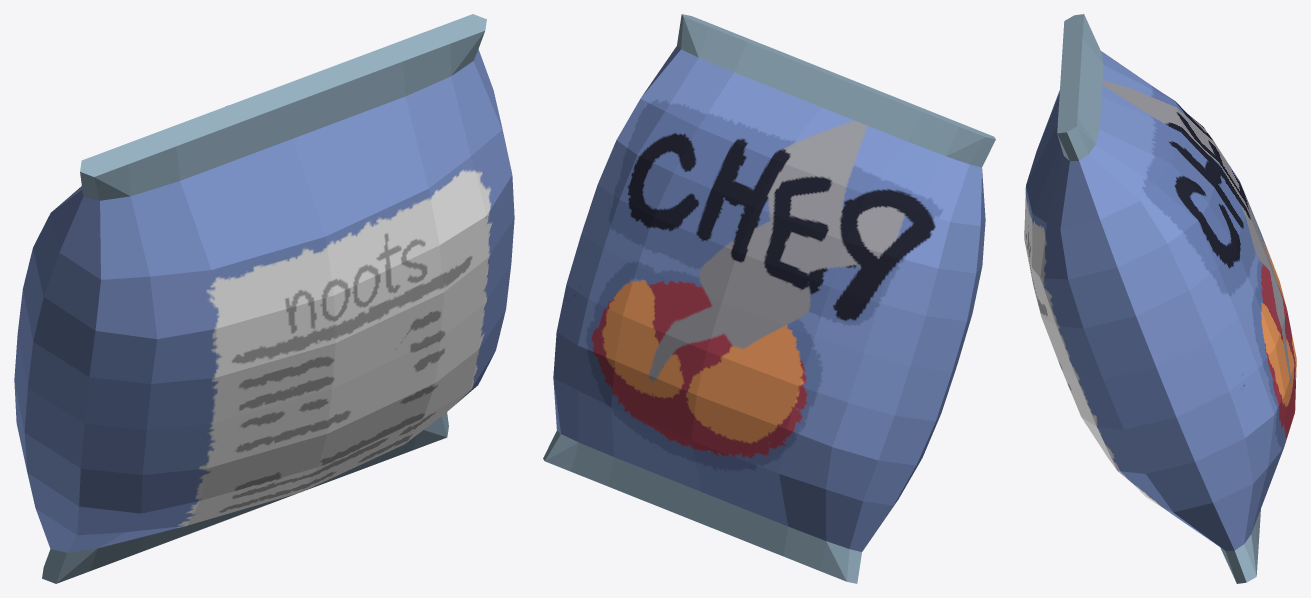
Rendered from BootlegSnack.Chep.fbx.
3 renders of one model, left to right at view 1: azimuth 30°, elevation 25°; view 2: azimuth 150°, elevation 25°; view 3: azimuth 270°, elevation 25°, orthographic. The views are drawn at different scales.
Visible parts, largest first — view 1: BootlegSnack.Chep; view 2: BootlegSnack.Chep; view 3: BootlegSnack.Chep.
Boxes of the visible parts, <box> form: BootlegSnack.Chep: <box>14,14,514,583</box>; BootlegSnack.Chep: <box>543,14,995,583</box>; BootlegSnack.Chep: <box>1024,14,1296,583</box>.
Bounding box in the file's own units: 119 × 133 × 68.88.
